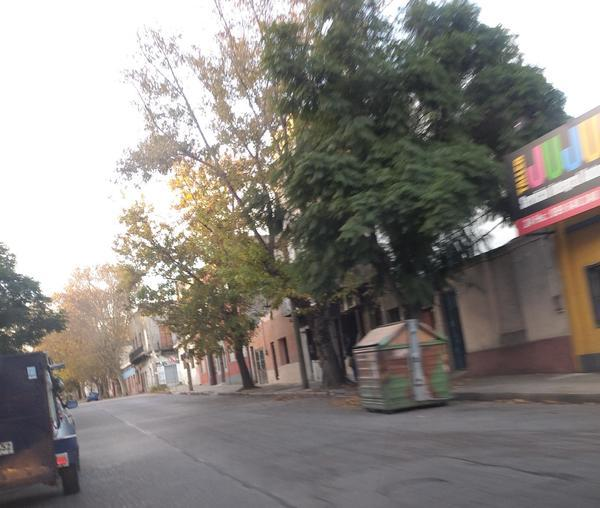Trash: (353, 319, 451, 411)
